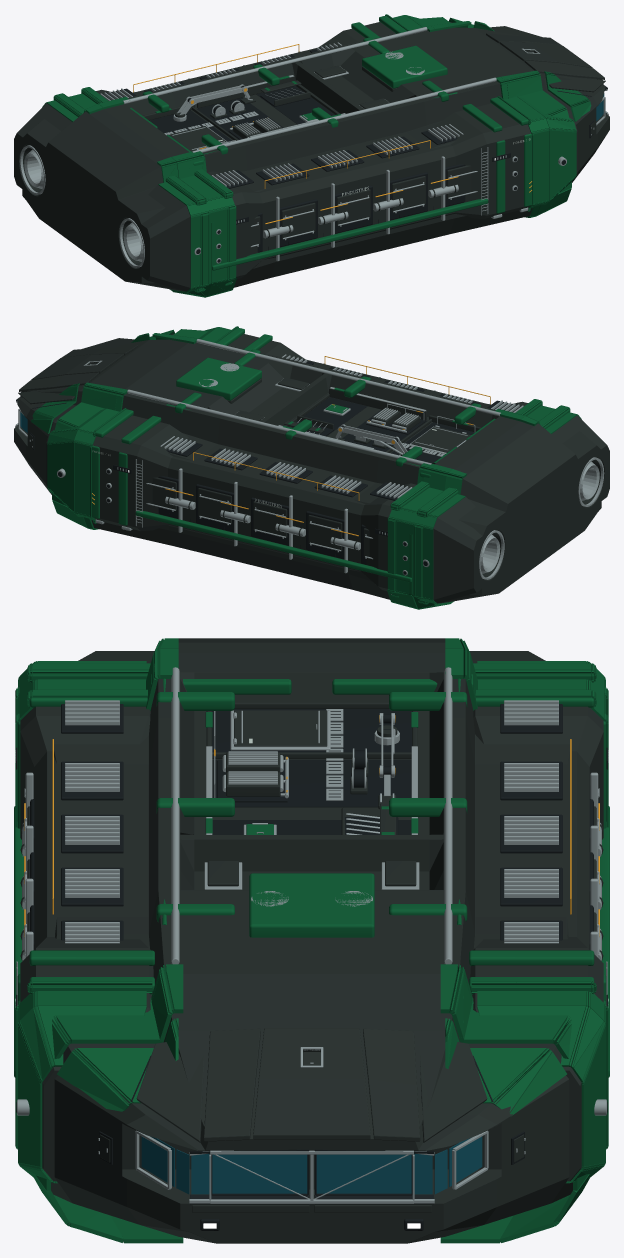
File: pioneer-study05.glb
3 views of the same model, one above another, from view 1: azimuth 30°, elevation 25°; view 2: azimuth 150°, elevation 25°; view 3: azimuth 270°, elevation 25° (orthographic). The views are drawn at different scales.
Parts seen in each view (by area): view 1: Pioneer saved-master body; view 2: Pioneer saved-master body; view 3: Pioneer saved-master body.
Part boxes in pixels (x1=…): Pioneer saved-master body: x1=14, y1=14, x2=609, y2=297; Pioneer saved-master body: x1=14, y1=326, x2=609, y2=609; Pioneer saved-master body: x1=14, y1=638, x2=609, y2=1243.
Size of the model in its own units: 72 by 18 by 38.
